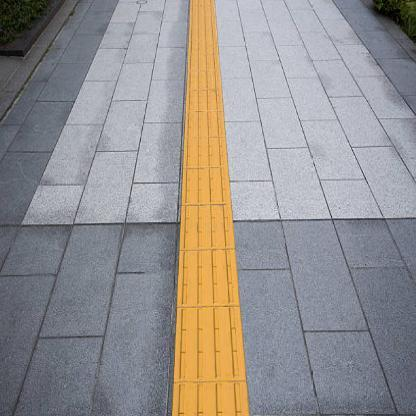podotacti: (144, 0, 264, 416)
